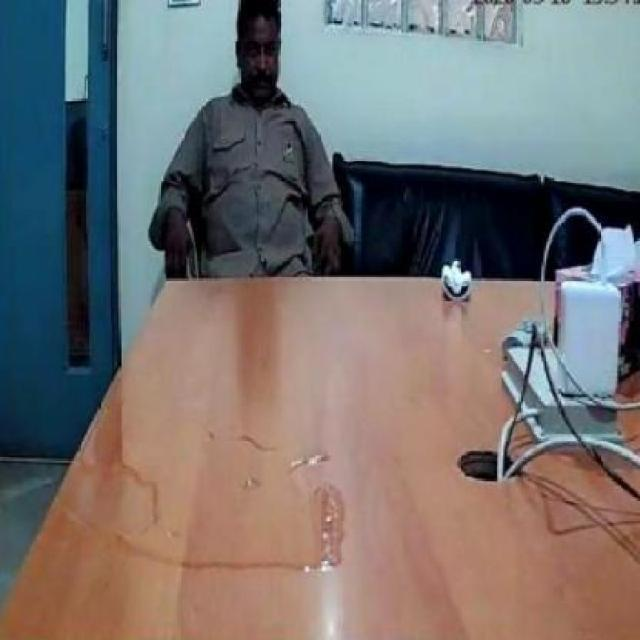spillage: (81, 366, 343, 567)
